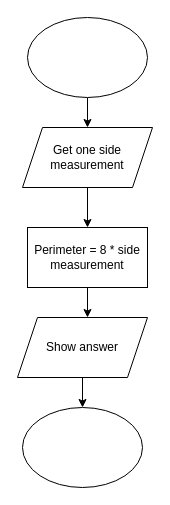
This 170x505 diagram has some shape labels left out. The shapes that lost their labels are listed below. From the top down, each one's centre as x and y in pixels, then its label:
At (x=87, y=57): "Start".
At (x=82, y=447): "Stop".
